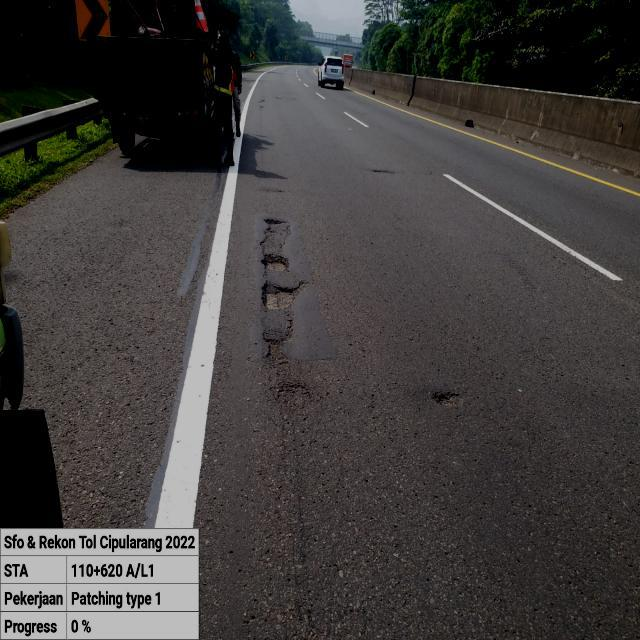Buraco: (258, 279, 312, 313), (260, 317, 296, 362), (426, 390, 466, 412), (259, 252, 292, 274), (260, 217, 288, 227), (369, 167, 395, 176), (256, 98, 267, 104), (258, 104, 266, 110)
